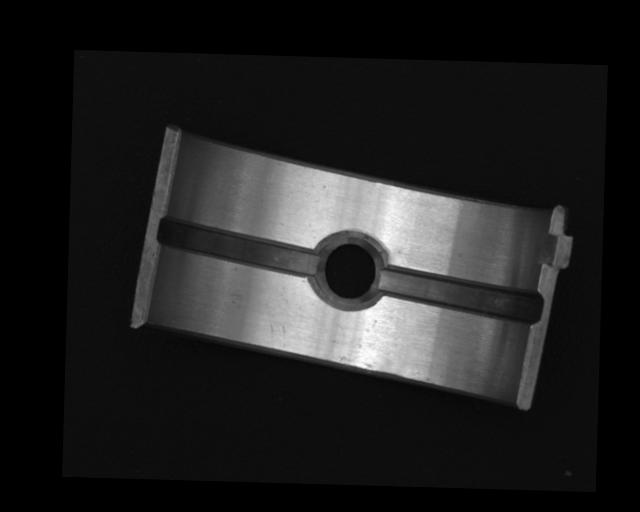gap: (158, 216, 320, 278), (376, 265, 542, 324)
hole: (313, 234, 382, 310)
